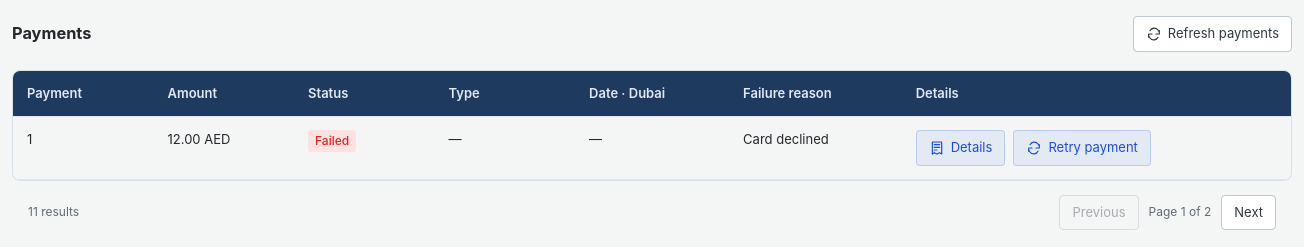
Test: shows payment failure reasons and fetches the next server page
The width and height of the screenshot is (1304, 247).
Check: the text "Card declined" is shown, box [729,117,902,179]
Click the button "Next" at (1249, 212), box [1221,194,1276,230]
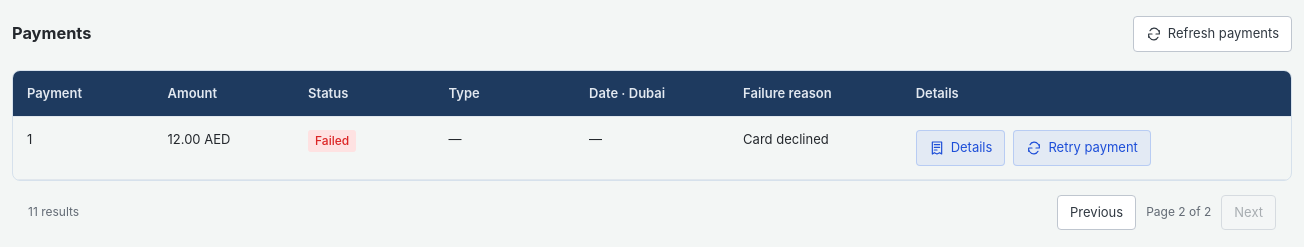
Check: the text "Page 2 of 2" is shown, box [1146,203,1211,221]
